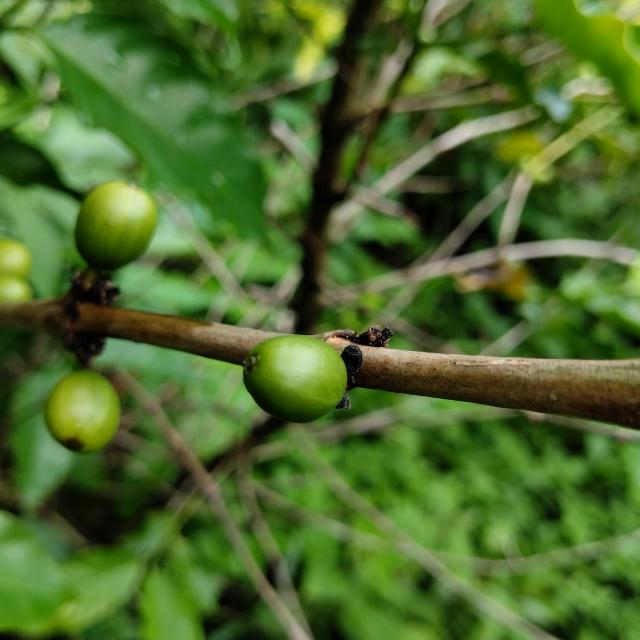green: (243, 335, 348, 423), (74, 181, 156, 269), (44, 370, 120, 453)
